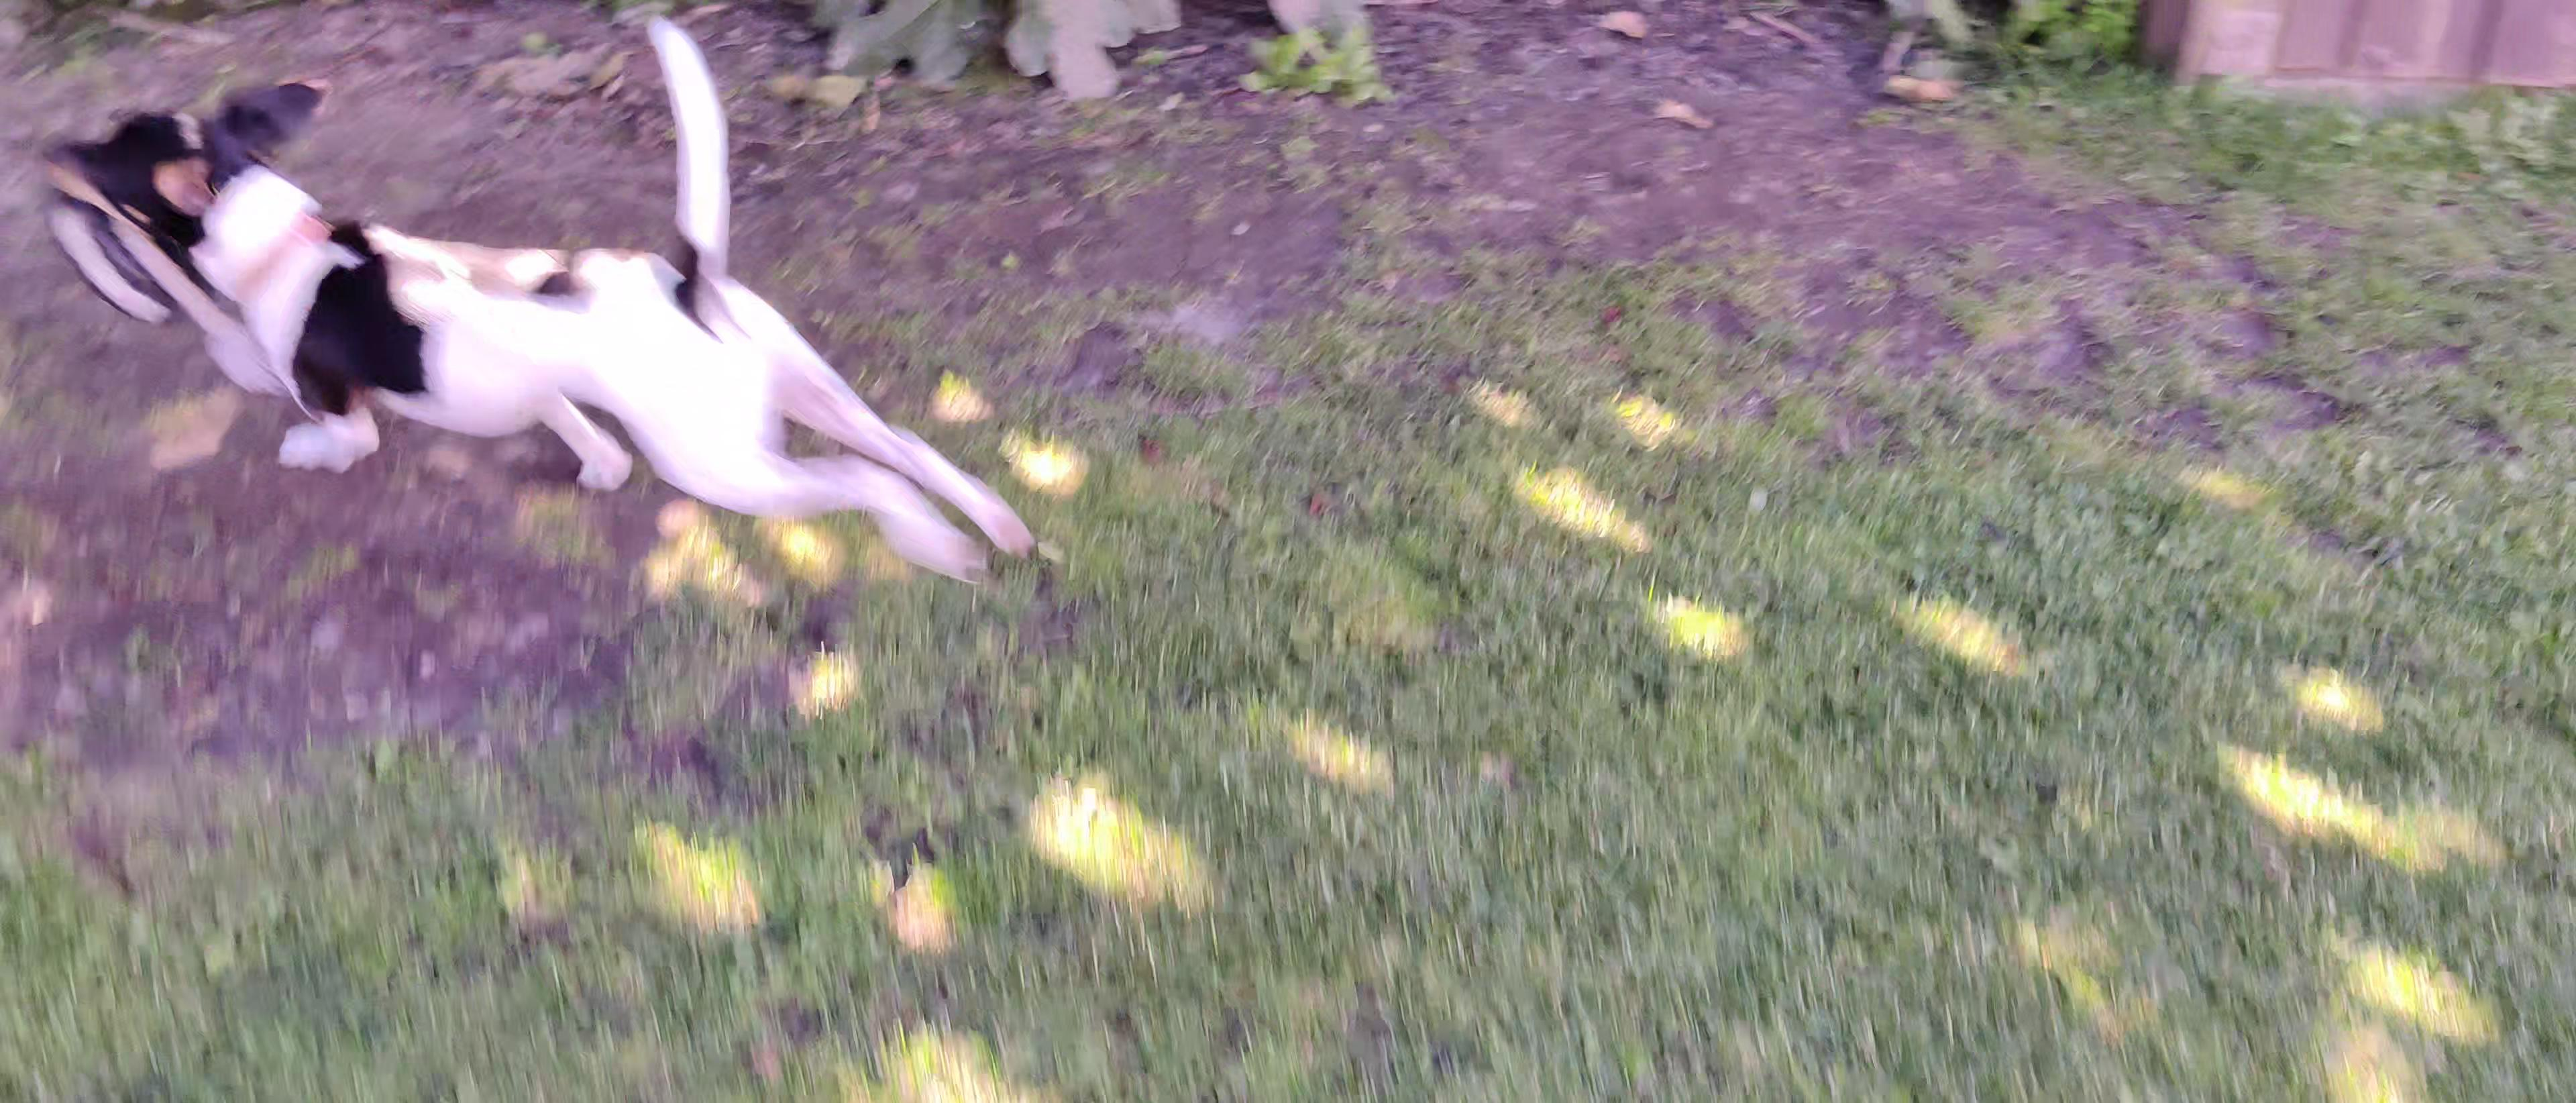Dog: (34, 8, 1053, 592)
